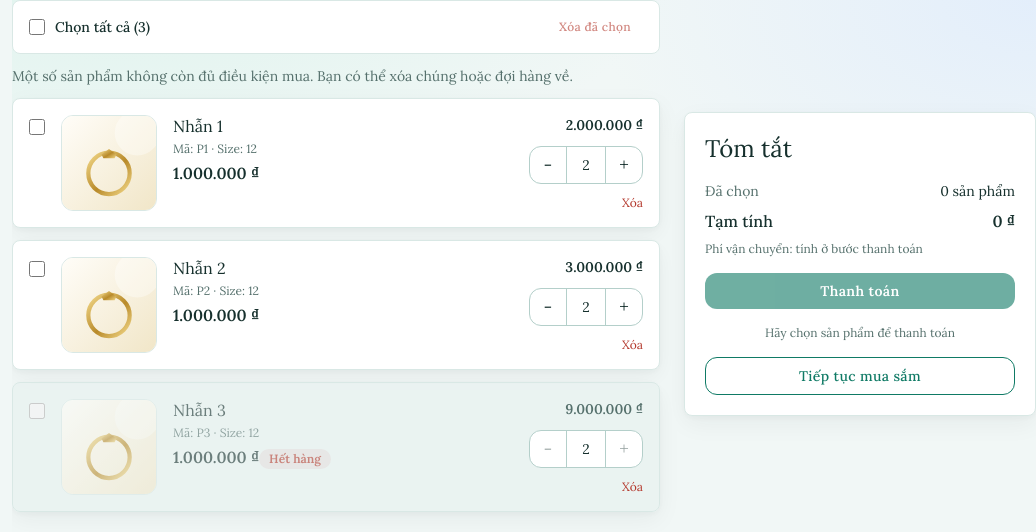
it: CartView › chọn tất cả bỏ qua dòng có vấn đề (làm mờ, có nhãn, không chọn được); tổng lấy từ lineTotal
The width and height of the screenshot is (1036, 532).
Expected: the link "Nhẫn 1" is shown, [173,116,223,136]
Expected: the checkbox named "Chọn Nhẫn 3" is disabled, [29,403,45,419]
Click the checkbox labelled "Chọn tất cả (3)" at (37, 27), box [29,19,45,35]
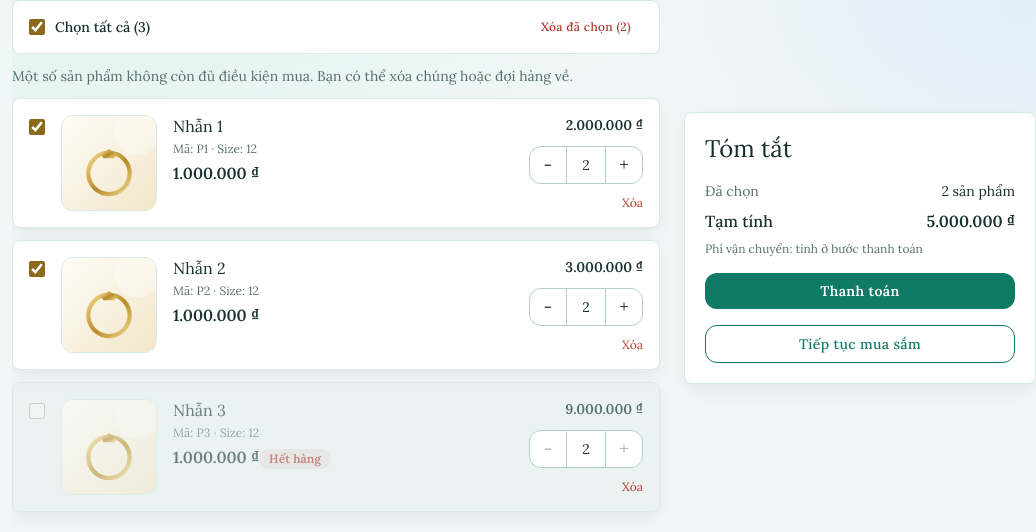
Now the text with test id "selected-total" shows "5.000.000", box [926,211,1015,231]
Click the checkbox named "Chọn Nhẫn 2" at (37, 269), box [29,261,45,277]
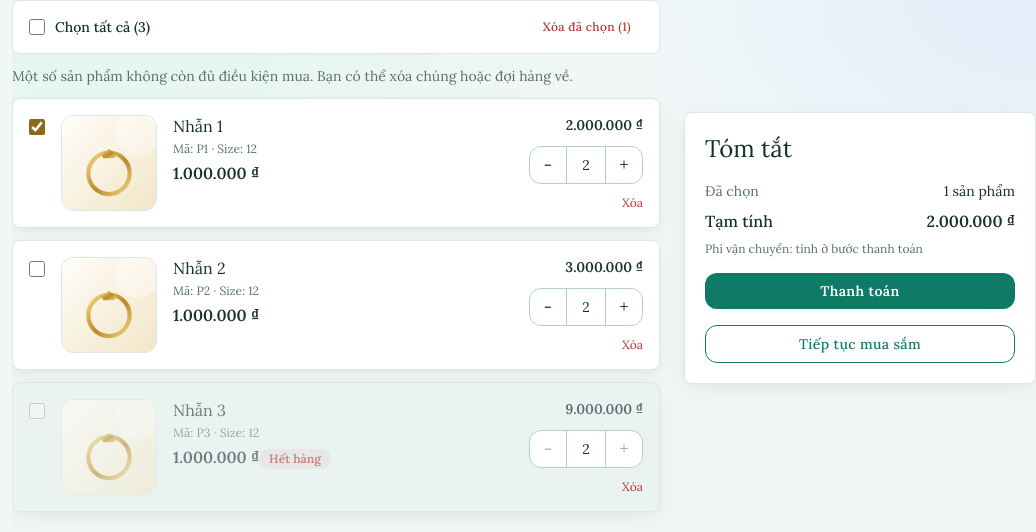
Expected: the text "Phí vận chuyển: tính ở bước thanh toán" is shown, [705,241,923,256]
Now the button "Thanh toán" is enabled, box [705,273,1015,309]
Now the text with test id "selected-total" shows "2.000.000", box [927,211,1015,231]
